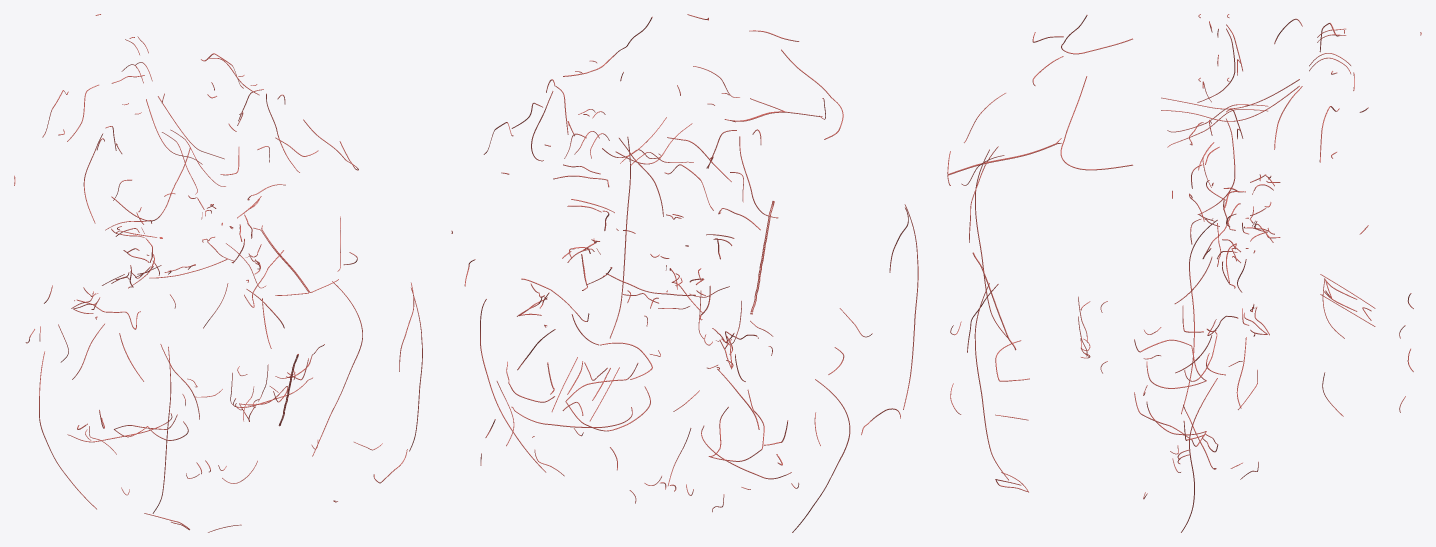
Rendered from complete-anastomoses.glb.
3 renders of one model, left to right at view 1: azimuth 30°, elevation 25°; view 2: azimuth 150°, elevation 25°; view 3: azimuth 270°, elevation 25°, orthographic. The views are drawn at different scales.
Size of the model in its own units: 150 by 172 by 167.
